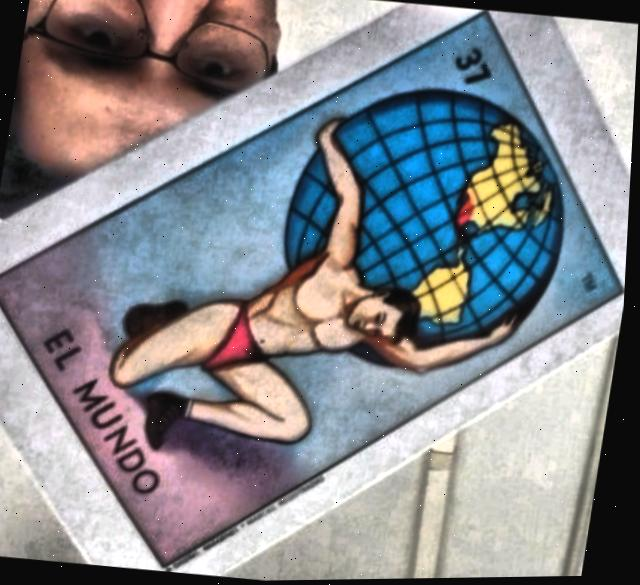El Mundo: (0, 15, 623, 570)
